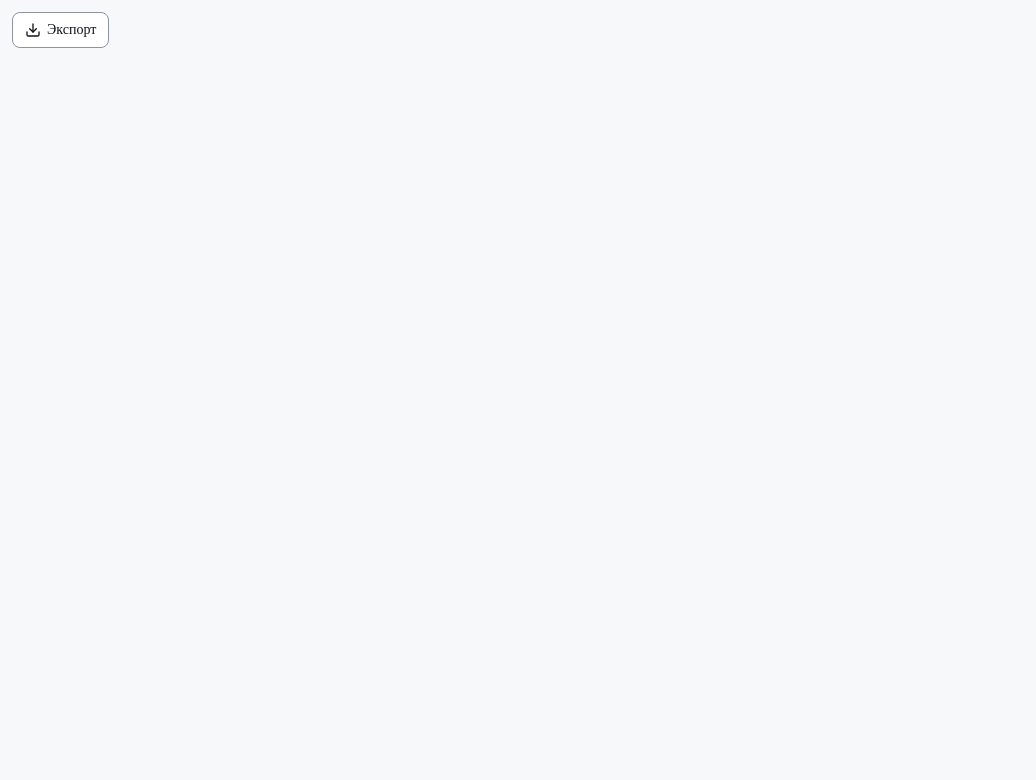
Scenario: ExportMenu › закрывается по клику вне меню
The width and height of the screenshot is (1036, 780).
Click the button with test id "export" at (61, 30), box x1=12 y1=12 x2=109 y2=48
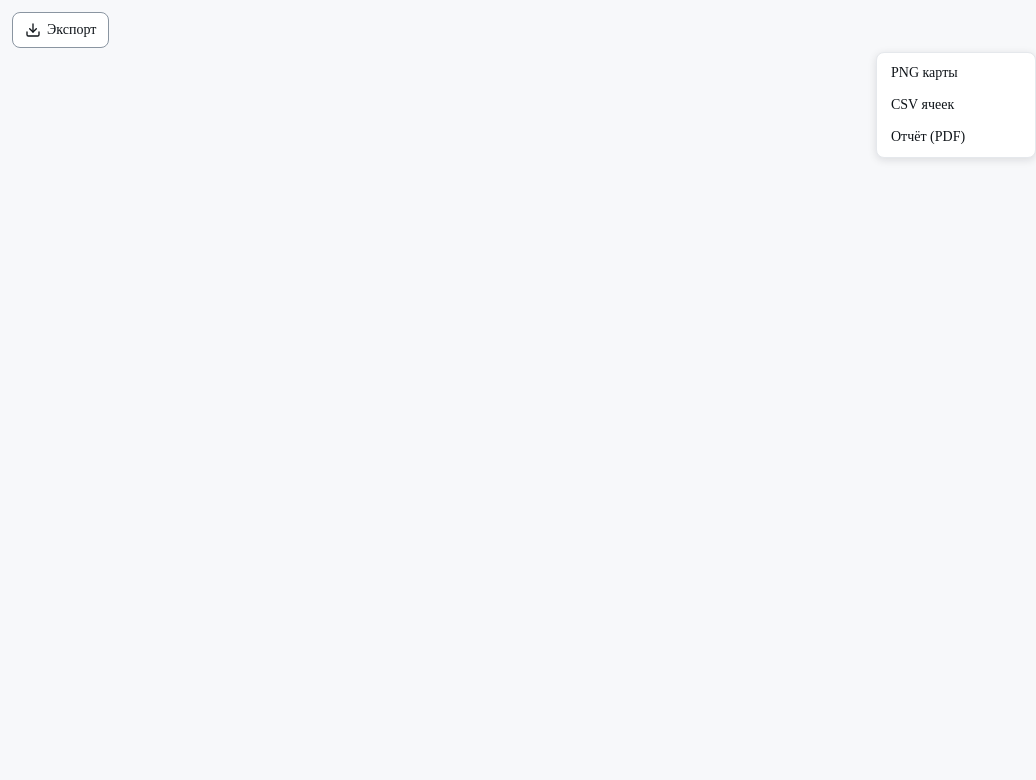
Press the mouse on the element showing "Экспорт PNG карты CSV ячеек Отчёт (PDF)" at (524, 396), box x1=12 y1=12 x2=1035 y2=779
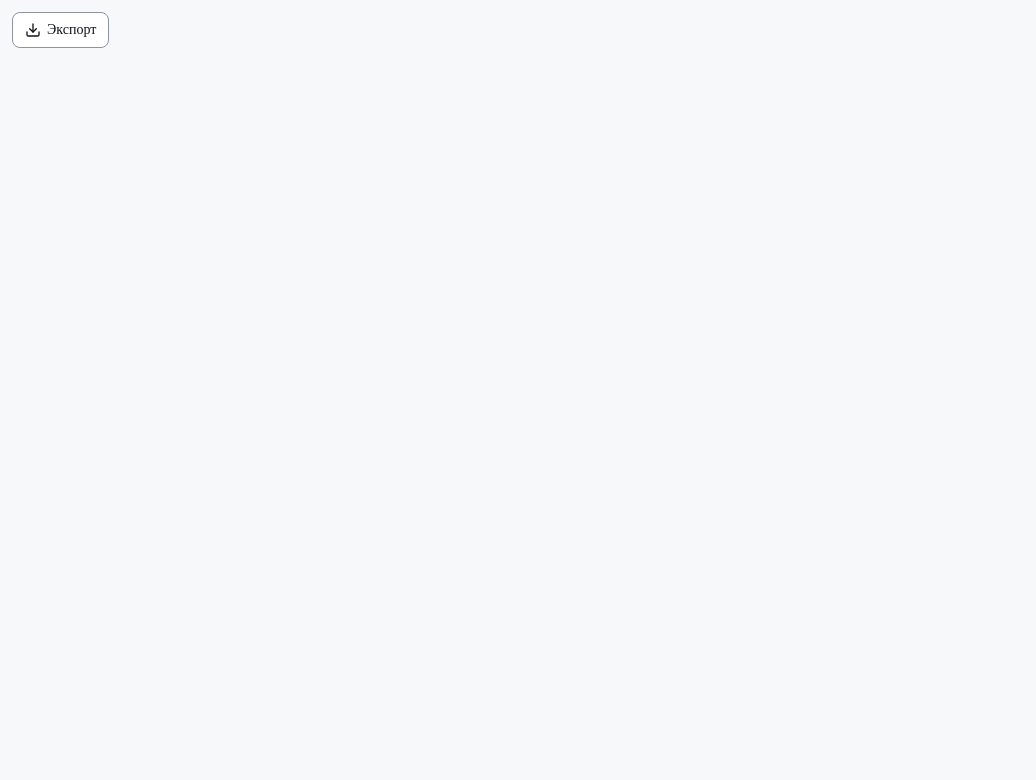
Check: the menu is gone
